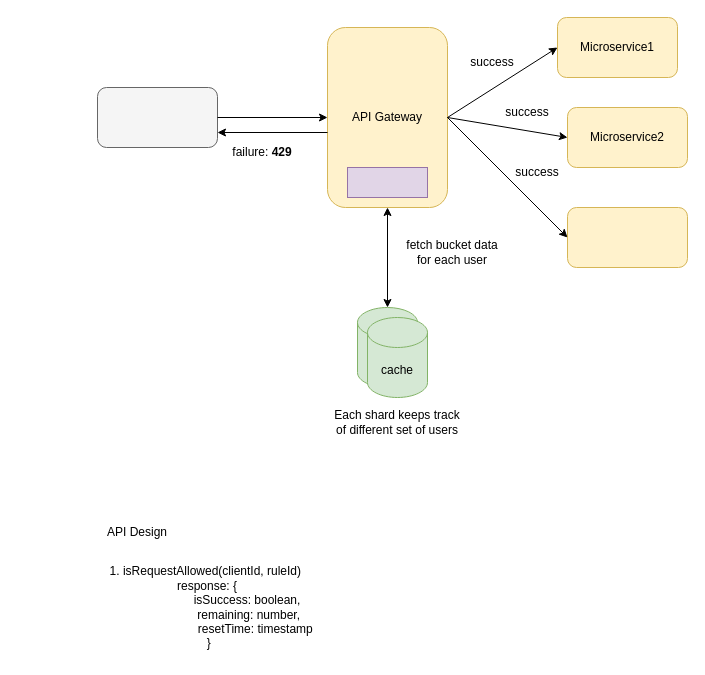
The diagram is 705 pixels wide and 675 high, and some of its shapes have lost their labels. The box of each missing label's shape, as (x1, y1, x2, y2) in pixels:
clients: (96, 86, 218, 148)
Microservice3: (566, 206, 688, 268)
rate limiter: (346, 166, 428, 198)
